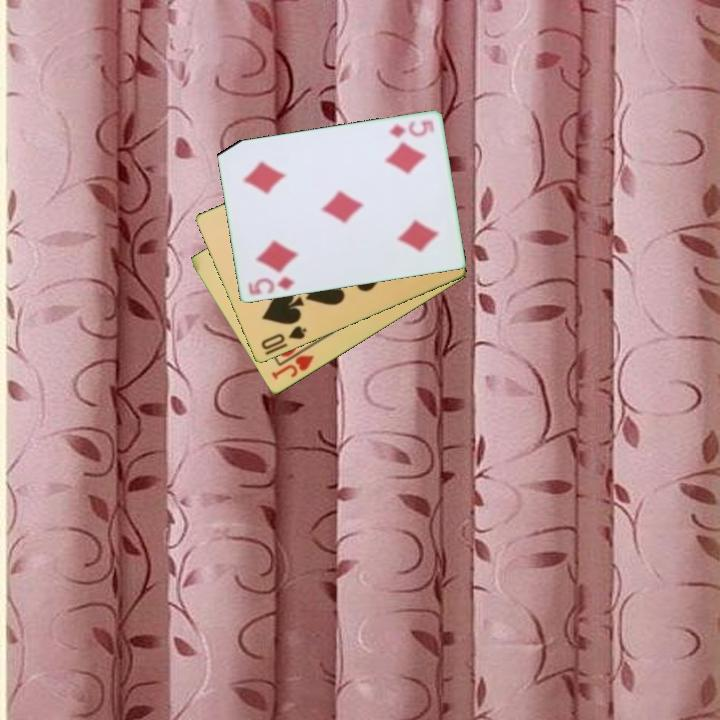10s: (257, 323, 309, 353)
5d: (245, 273, 297, 299), (385, 117, 437, 140)
Jh: (268, 352, 317, 383)
